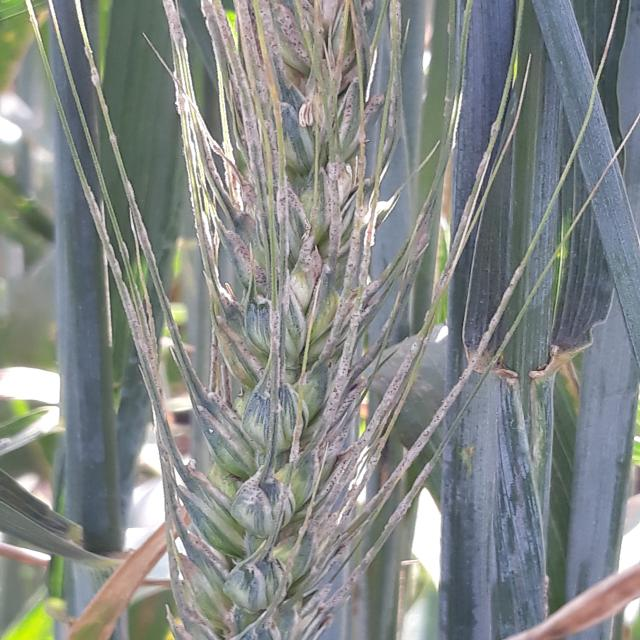powder_mildew: (95, 0, 430, 640), (418, 369, 574, 640)
